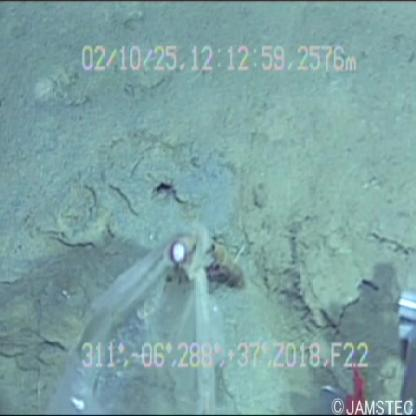Rov: (318, 253, 416, 414)
Rác: (37, 189, 256, 416)
